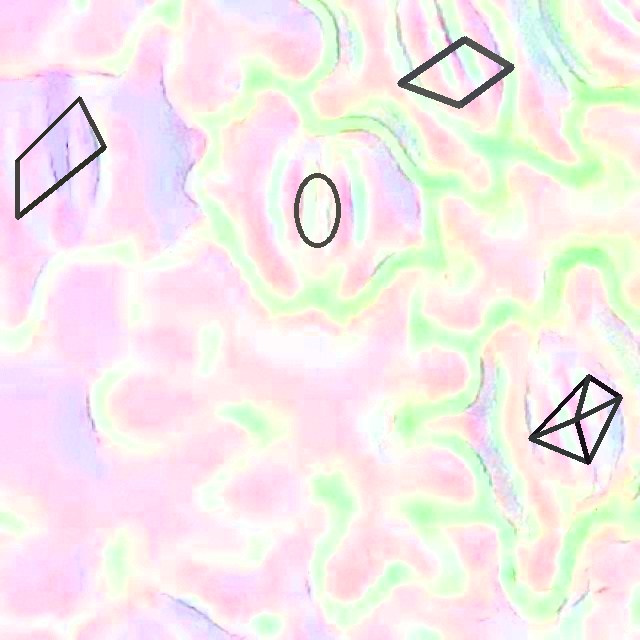close: (529, 375, 622, 463)
open: (15, 96, 106, 219), (397, 36, 514, 108), (294, 173, 340, 247)
